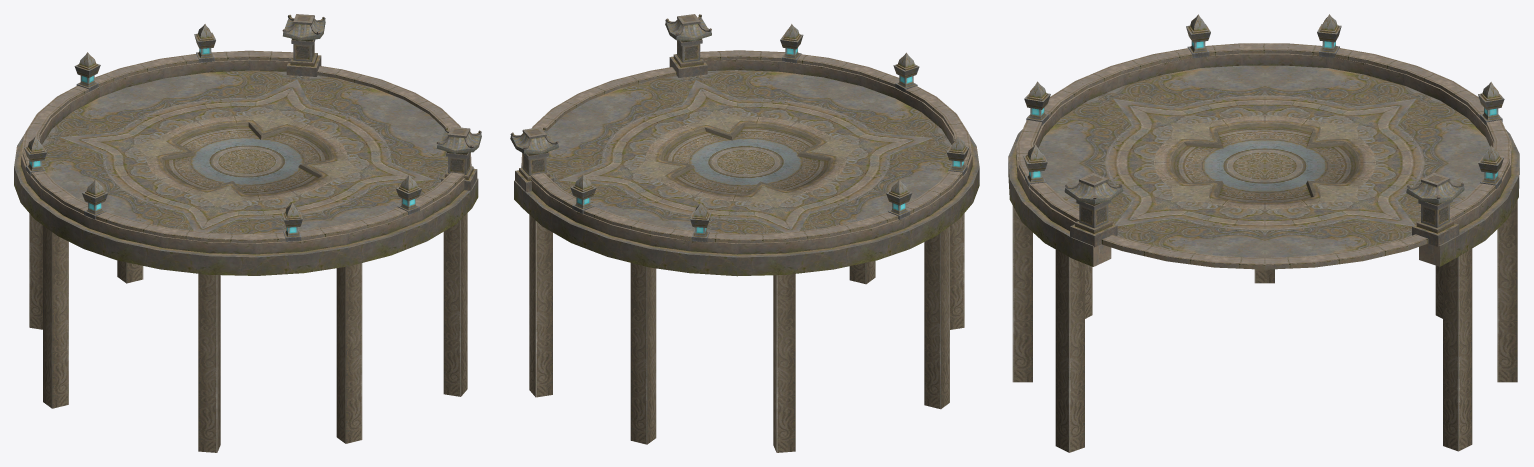
The model's file is SC_ZGFyuanpan01.FBX.
The picture shows the model from 3 angles, left to right: view 1: azimuth 30°, elevation 25°; view 2: azimuth 150°, elevation 25°; view 3: azimuth 270°, elevation 25°; orthographic projection. The views are drawn at different scales.
Parts seen in each view (by area): view 1: SC_ZGFyuanpan01; view 2: SC_ZGFyuanpan01; view 3: SC_ZGFyuanpan01.
Part boxes in pixels (box(x1,y1,x2,y2)): SC_ZGFyuanpan01: box(14, 14, 481, 452); SC_ZGFyuanpan01: box(510, 14, 979, 452); SC_ZGFyuanpan01: box(1008, 14, 1519, 452).
Size of the model in its own units: 2137 by 1283 by 2160.
